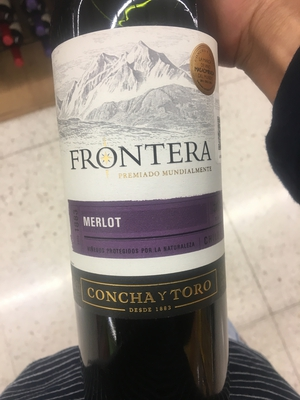frontera merlot: (44, 5, 255, 384)
